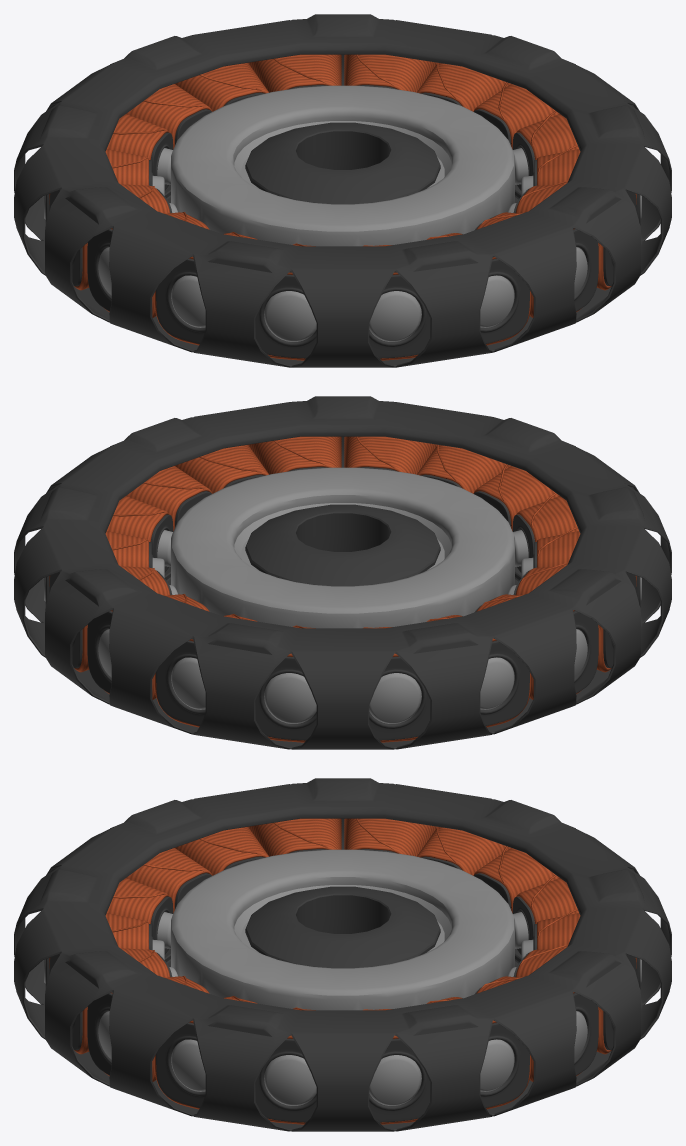
The model's file is electric_motor.glb.
The picture shows the model from 3 angles, top to bottom: view 1: azimuth 30°, elevation 25°; view 2: azimuth 150°, elevation 25°; view 3: azimuth 270°, elevation 25°; orthographic projection.
Visible parts, largest first — view 1: Hub, Rotor, Coils, Spools, Cores; view 2: Hub, Rotor, Coils, Spools, Cores; view 3: Hub, Rotor, Coils, Spools, Cores.
Boxes of the visible parts, <box> form: Hub: <box>14,14,671,367</box>; Rotor: <box>171,85,514,246</box>; Coils: <box>49,54,636,360</box>; Spools: <box>45,85,640,358</box>; Cores: <box>44,148,641,341</box>; Hub: <box>14,396,671,749</box>; Rotor: <box>171,467,514,628</box>; Coils: <box>49,436,636,742</box>; Spools: <box>45,467,640,740</box>; Cores: <box>44,530,641,723</box>; Hub: <box>14,778,671,1131</box>; Rotor: <box>171,849,514,1010</box>; Coils: <box>49,818,636,1124</box>; Spools: <box>45,849,640,1122</box>; Cores: <box>44,912,641,1105</box>.
Bounding box in the file's own units: 0.1646 × 0.0317 × 0.1643.
3 materials, 1 textured.
